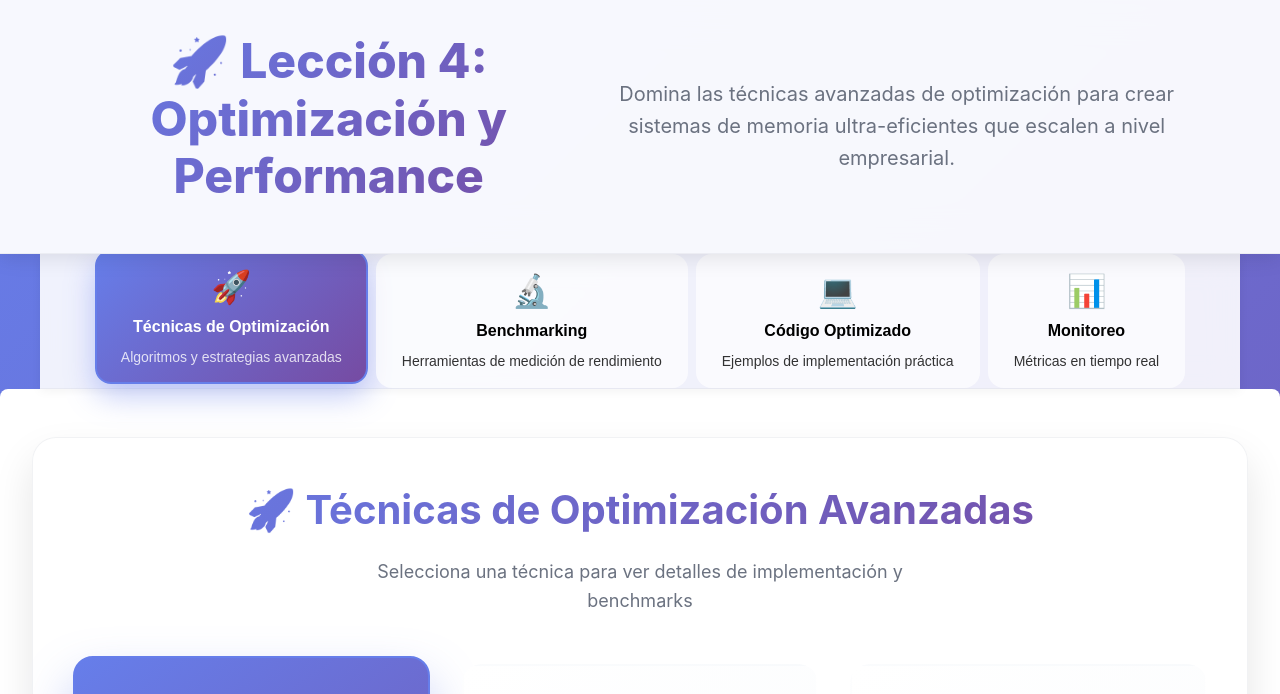
it: Lesson04Optimization › Optimización de Código › muestra lista de mejoras implementadas
The width and height of the screenshot is (1280, 694).
What coordinates should you click on to do the following:
click the tab "💻 Código Optimizado Ejemplos de implementación práctica"
I would click on:
 (838, 321)
Its box is [696,254,980,388].
(page scrolled)
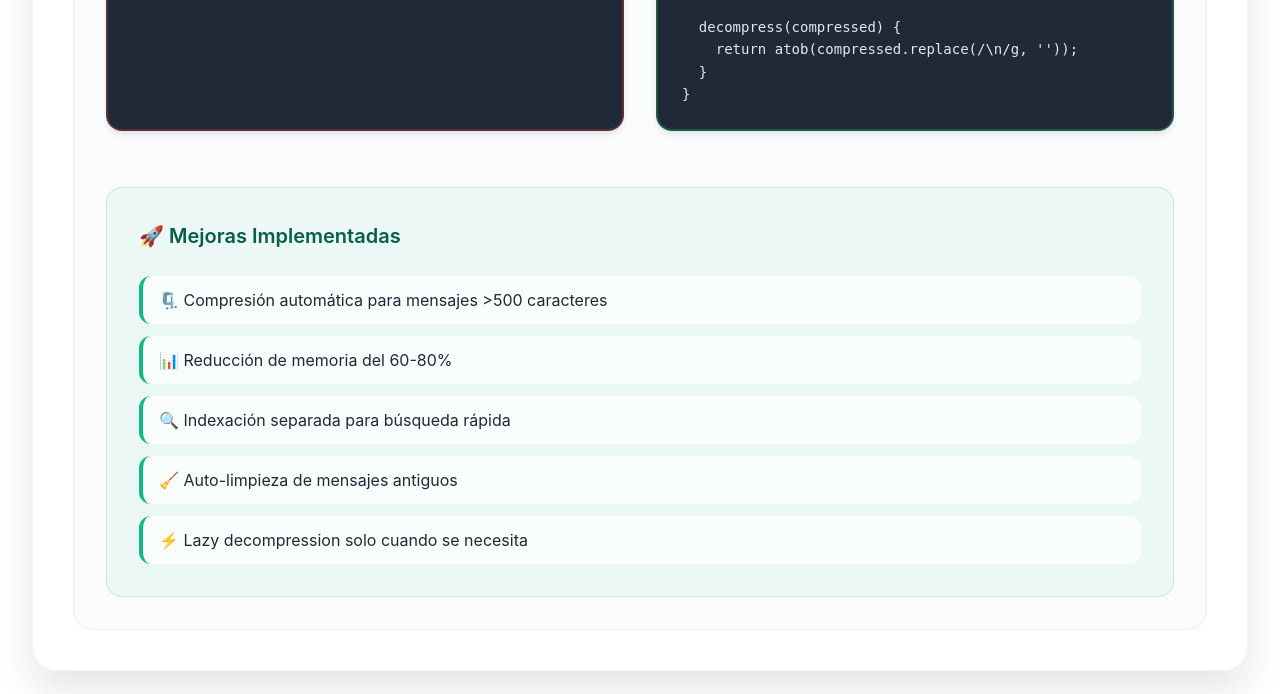
Expected: the heading "🚀 Mejoras Implementadas" is shown, [139,224,401,248]
Expected: the list item "🗜️ Compresión automática para mensajes >500 caracteres" is shown, [139,276,1141,324]
Expected: the list item "📊 Reducción de memoria del 60-80%" is shown, [139,336,1141,384]
